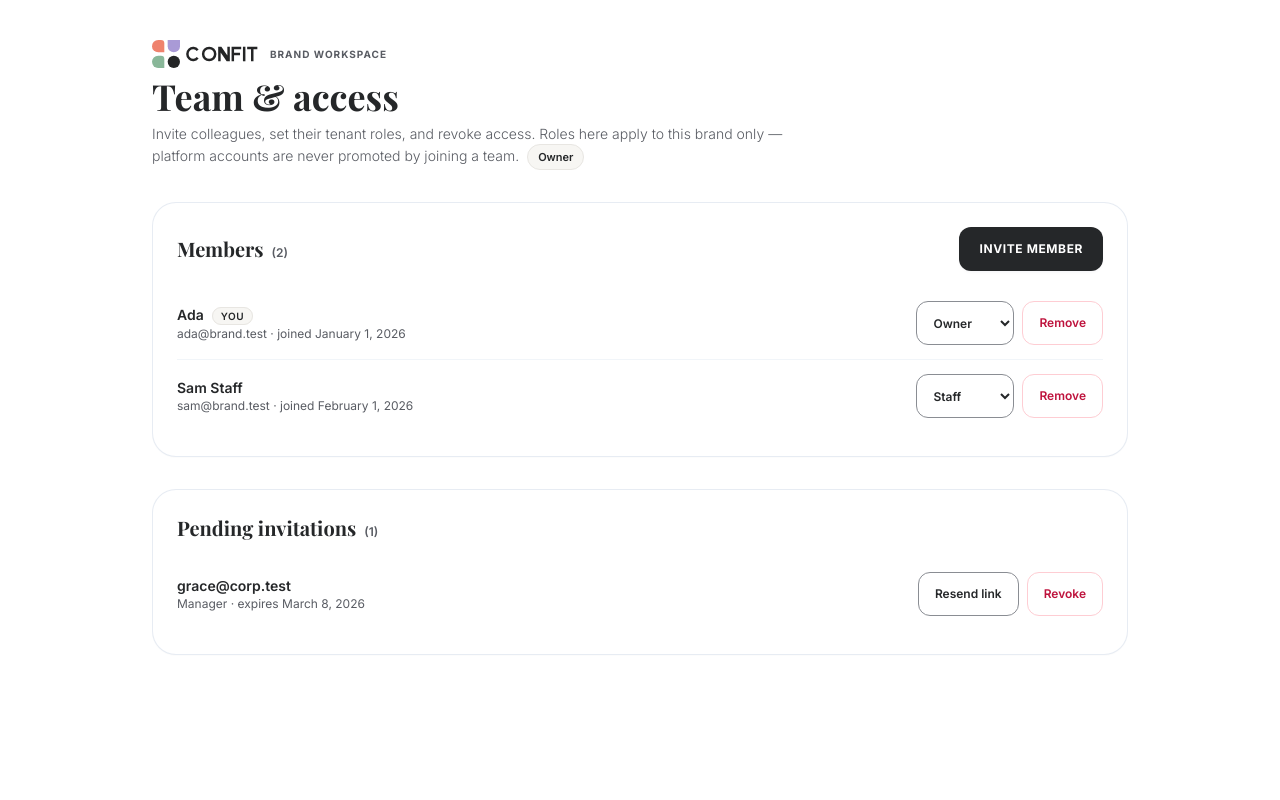
Test: BrandTeamView — owner surface › removal is confirm-gated and DELETEs the membership id
Click the button "Remove" in the row of "Sam Staff" at {"x": 1063, "y": 396}, box x1=1022 y1=374 x2=1103 y2=418
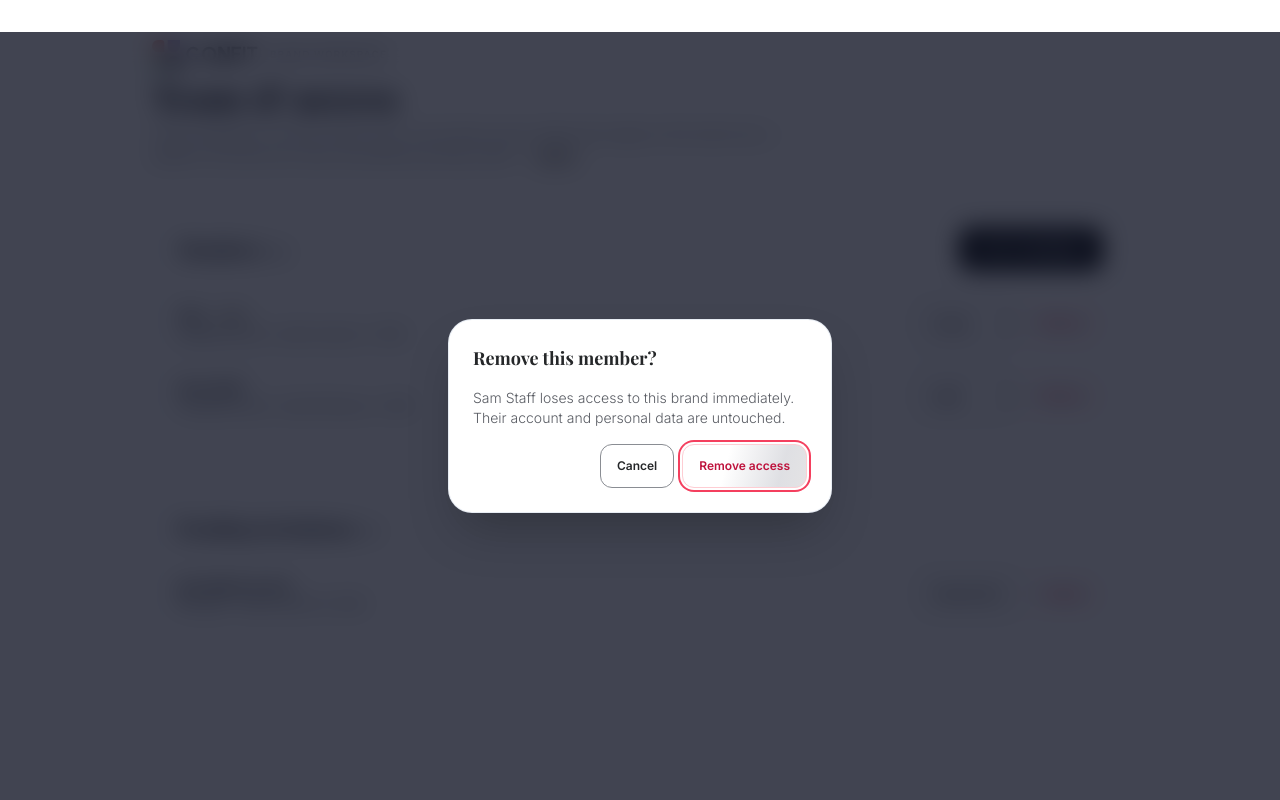
Click the button "Remove access" at {"x": 745, "y": 466}, box x1=682 y1=444 x2=807 y2=488
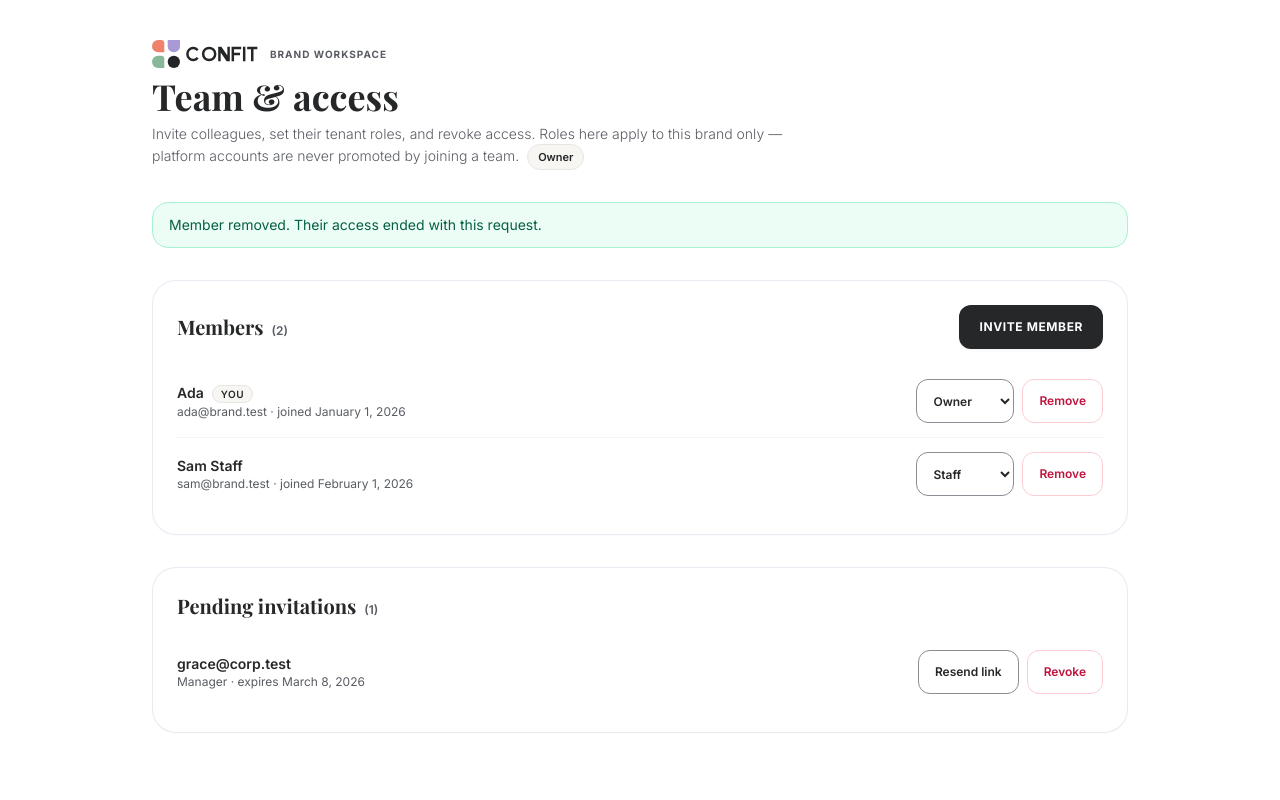
Check: the text "Member removed. Their access ended with this request." is shown, box x1=152 y1=202 x2=1128 y2=248
